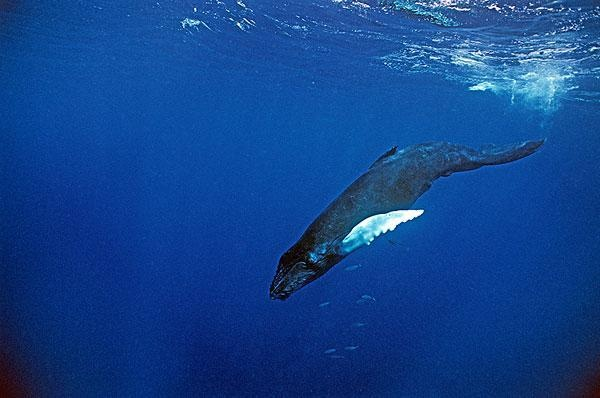fish: (268, 133, 550, 303)
